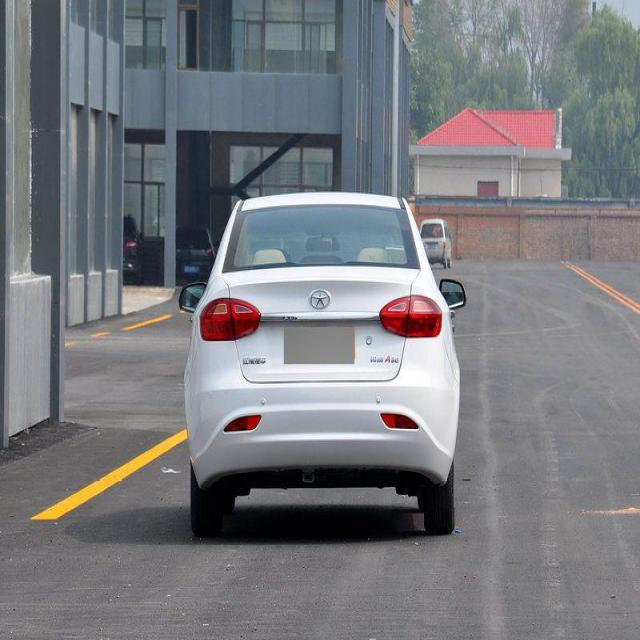back_glass: (223, 206, 422, 272)
back_left_side_light: (198, 296, 262, 342)
back_right_side_light: (378, 294, 442, 340)
front_left_side_mirror: (178, 281, 208, 314)
front_right_side_mirror: (438, 276, 468, 311)
rear_bumper: (183, 337, 460, 480)
